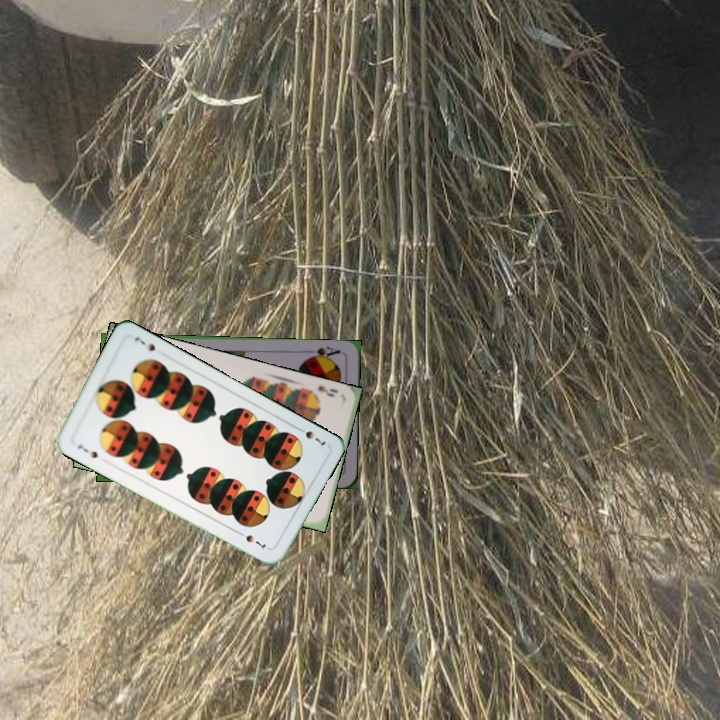S7: (292, 422, 328, 448), (73, 441, 100, 461)
S9: (303, 381, 341, 400)
SA: (304, 343, 342, 362)
